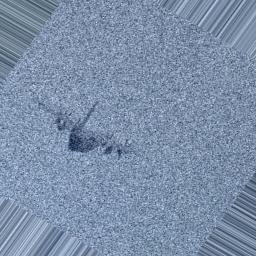Airplane: (36, 99, 133, 159)
